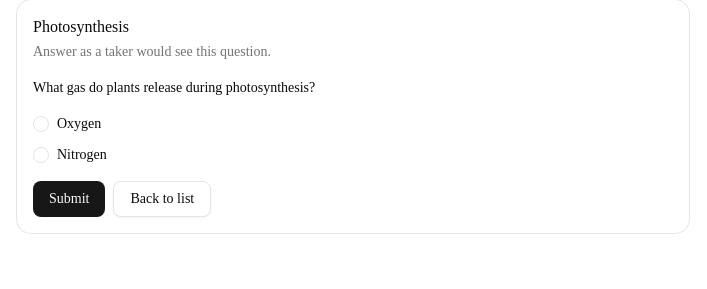
it: McqPreview › successful incorrect attempt shows that the choice was incorrect
This screenshot has width=707, height=289.
Expected: the text "Photosynthesis" is shown, [33, 18, 129, 35]
Click the radio button named "nitrogen" at (41, 155), box [33, 147, 49, 163]
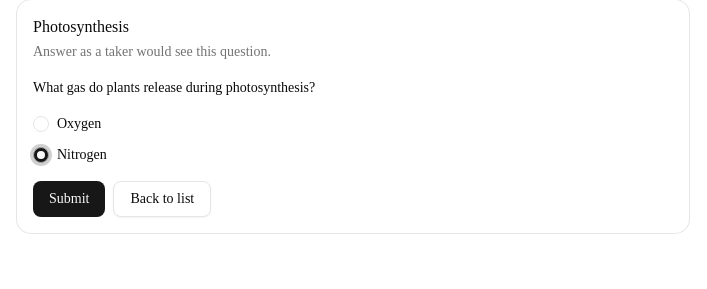
Click the button "Submit" at (69, 198), box [33, 180, 106, 216]
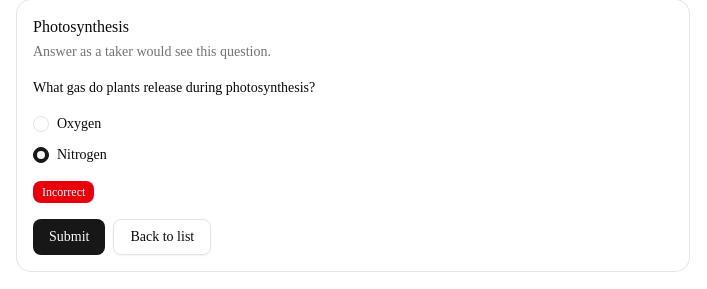
Result: the text "Incorrect" is shown at [33, 180, 94, 202]
